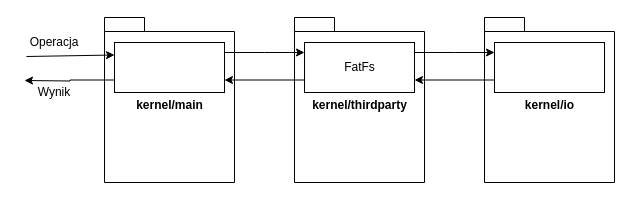
The diagram is 632 pixels wide and 200 high, and some of its shapes have lost their labels. Here are the shapes that lost their labels. From the top down, the centre of each, then its label:
At point 169,67: "FileSystem".
At point 549,67: "Ata".
